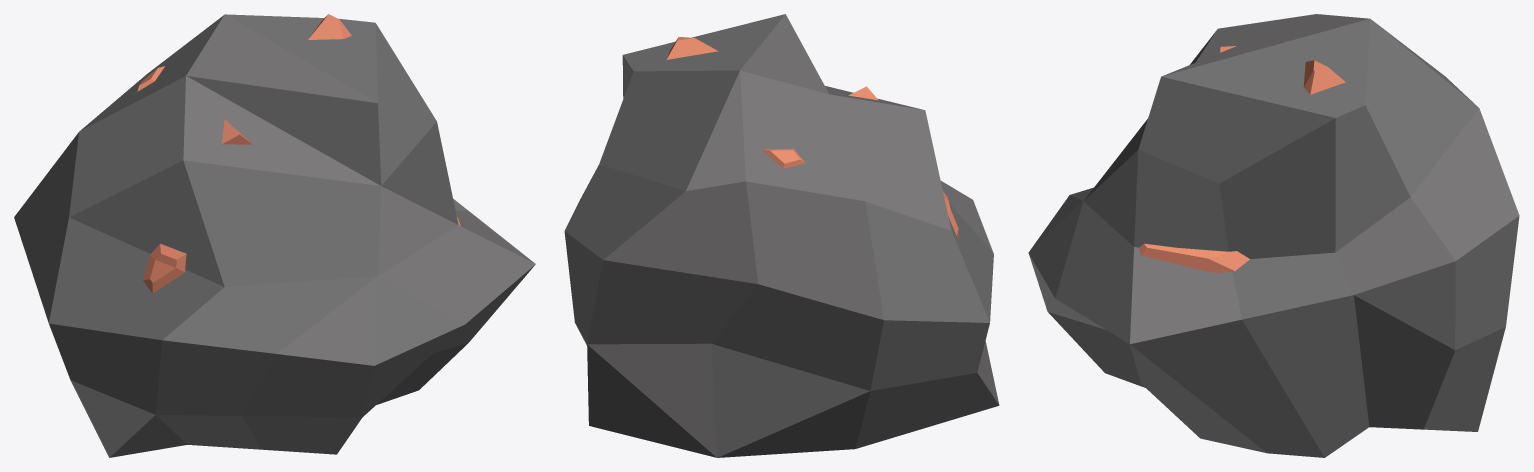
File: mesh_node_irong.fbx
The picture shows the model from 3 angles, left to right: view 1: azimuth 30°, elevation 25°; view 2: azimuth 150°, elevation 25°; view 3: azimuth 270°, elevation 25°; orthographic projection. The views are drawn at different scales.
Visible parts, largest first — view 1: mesh_node_irong; view 2: mesh_node_irong; view 3: mesh_node_irong.
Boxes of the visible parts, x1,y1,x2,y2 form: mesh_node_irong: (14, 14, 535, 457); mesh_node_irong: (564, 14, 999, 457); mesh_node_irong: (1028, 14, 1519, 457).
Bounding box in the file's own units: 150 × 120 × 148.
